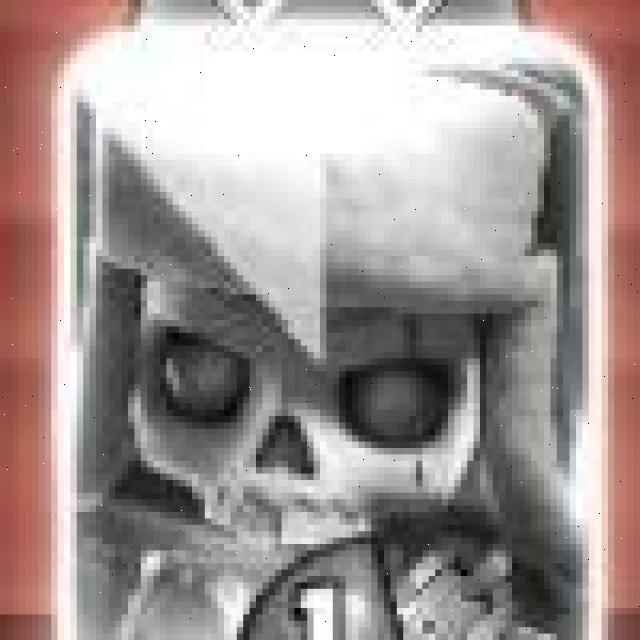Evolved_Skeletons: (58, 28, 596, 640)
